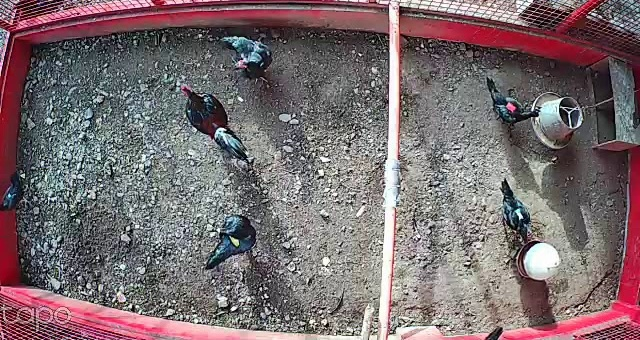Chicken: (479, 72, 544, 136), (201, 211, 263, 270), (491, 174, 537, 249), (217, 32, 279, 85)
Rooster: (174, 82, 251, 162)
Saddle_Color_Red: (504, 101, 517, 111)
Saddle_Color_White: (517, 212, 525, 221)
Saddle_Color_Yellow: (228, 233, 240, 247)
